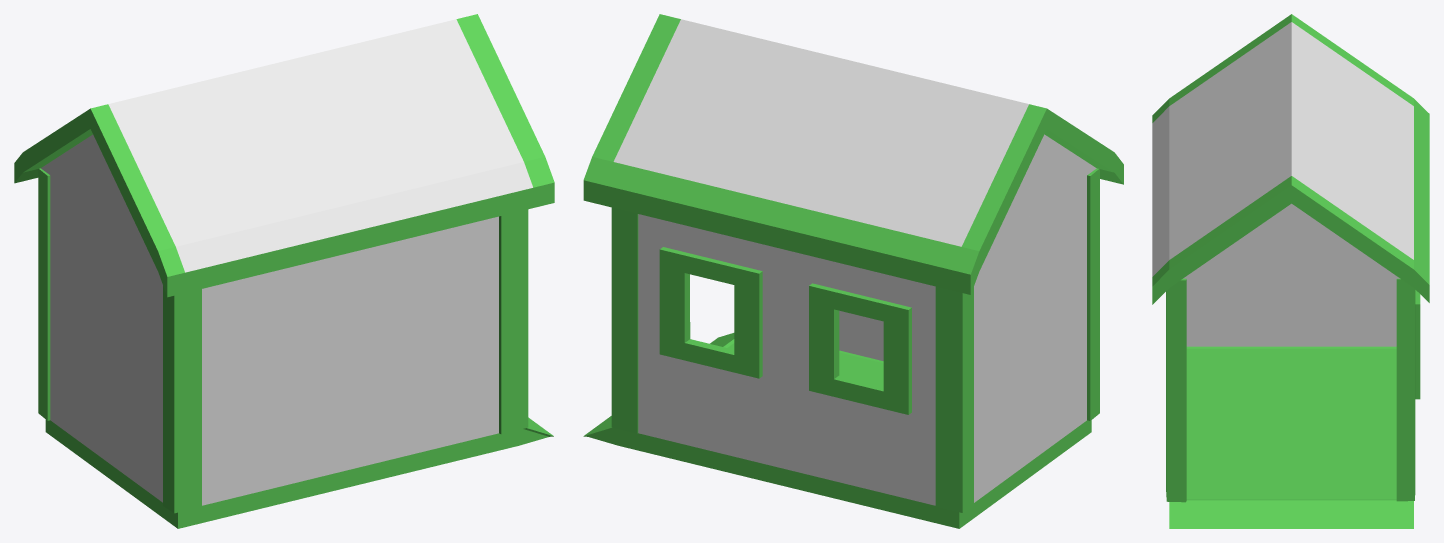
The model's file is house_wip01.fbx.
The picture shows the model from 3 angles, left to right: view 1: azimuth 30°, elevation 25°; view 2: azimuth 150°, elevation 25°; view 3: azimuth 270°, elevation 25°; orthographic projection. The views are drawn at different scales.
Visible parts, largest first — view 1: Cube; view 2: Cube; view 3: Cube.
Boxes of the visible parts, x1,y1,x2,y2 form: Cube: (14,14,554,528); Cube: (583,14,1123,528); Cube: (1152,14,1429,528).
Bounding box in the file's own units: 818 × 744 × 548.
